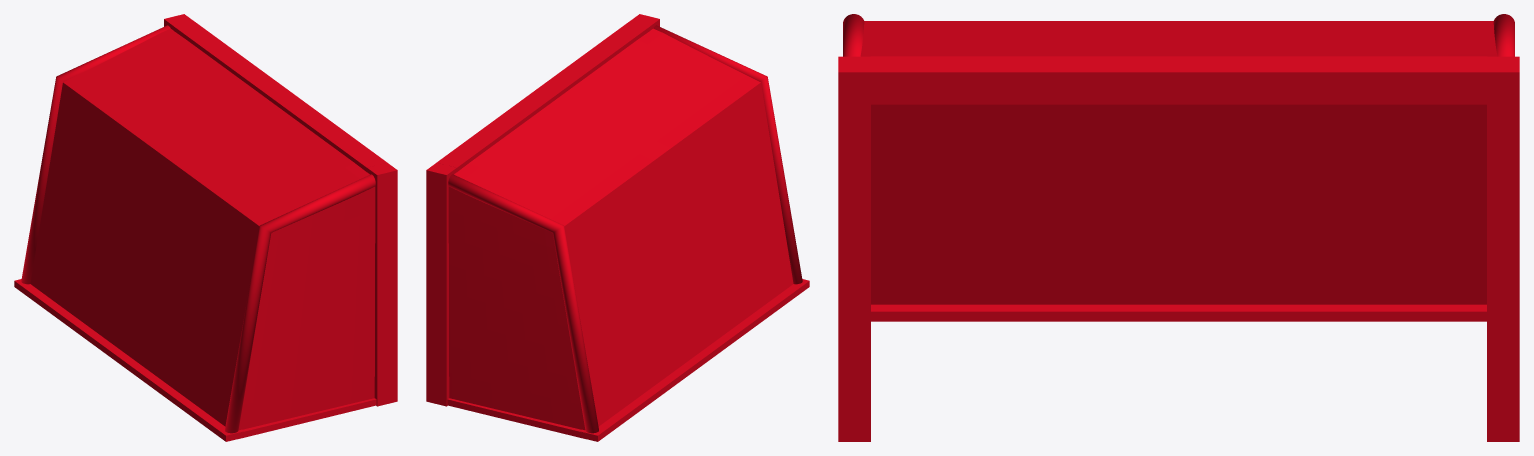
Rendered from Goal.fbx.
The picture shows the model from 3 angles, left to right: view 1: azimuth 30°, elevation 25°; view 2: azimuth 150°, elevation 25°; view 3: azimuth 270°, elevation 25°; orthographic projection. The views are drawn at different scales.
Visible parts, largest first — view 1: Cube; view 2: Cube; view 3: Cube.
Part boxes in pixels (x1=…): Cube: x1=14, y1=14, x2=397, y2=441; Cube: x1=426, y1=14, x2=809, y2=441; Cube: x1=838, y1=14, x2=1519, y2=441.
Bounding box in the file's own units: 157 × 203 × 340.
